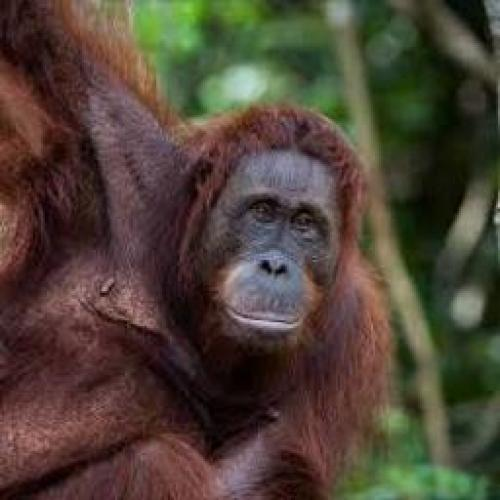orangutan-endangered: (97, 24, 386, 493), (2, 8, 211, 500)
